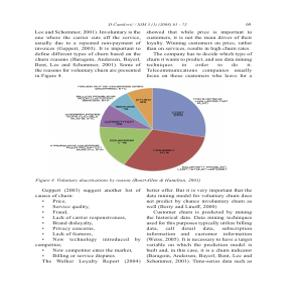diagram: (47, 82, 239, 176)
text: (34, 187, 144, 267), (147, 185, 256, 265), (31, 28, 144, 80), (146, 29, 257, 80)
